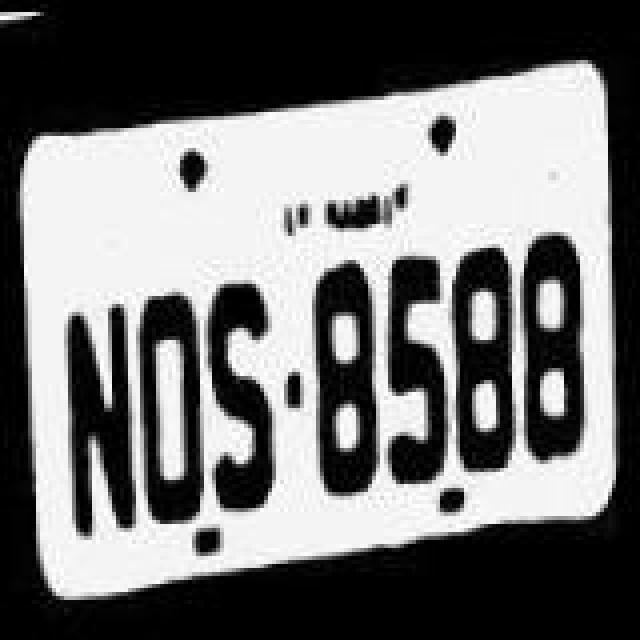5: (374, 240, 454, 488)
8: (300, 246, 384, 506), (514, 220, 594, 476), (442, 228, 522, 480)
N: (50, 278, 138, 538)
O: (132, 272, 208, 524)
S: (200, 266, 284, 514)
